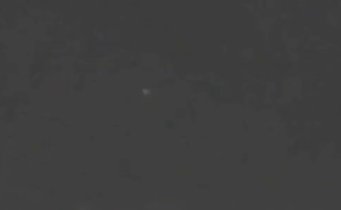Target: (144, 91, 148, 94)
